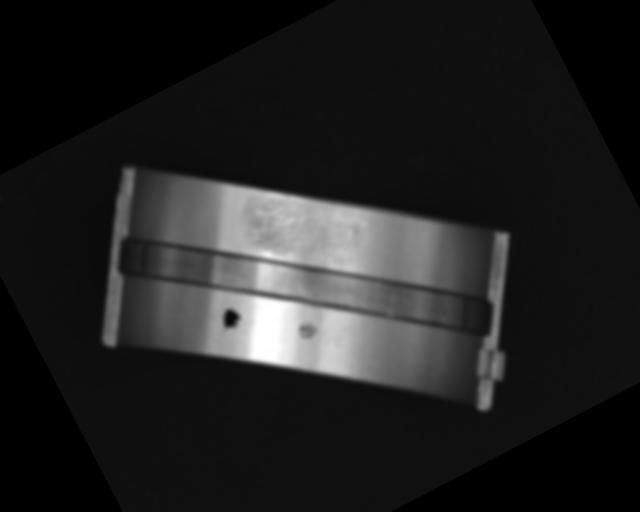blot: (214, 304, 246, 336)
bruise: (293, 317, 321, 345)
gap: (113, 103, 501, 467)
scratch: (239, 170, 374, 299)
